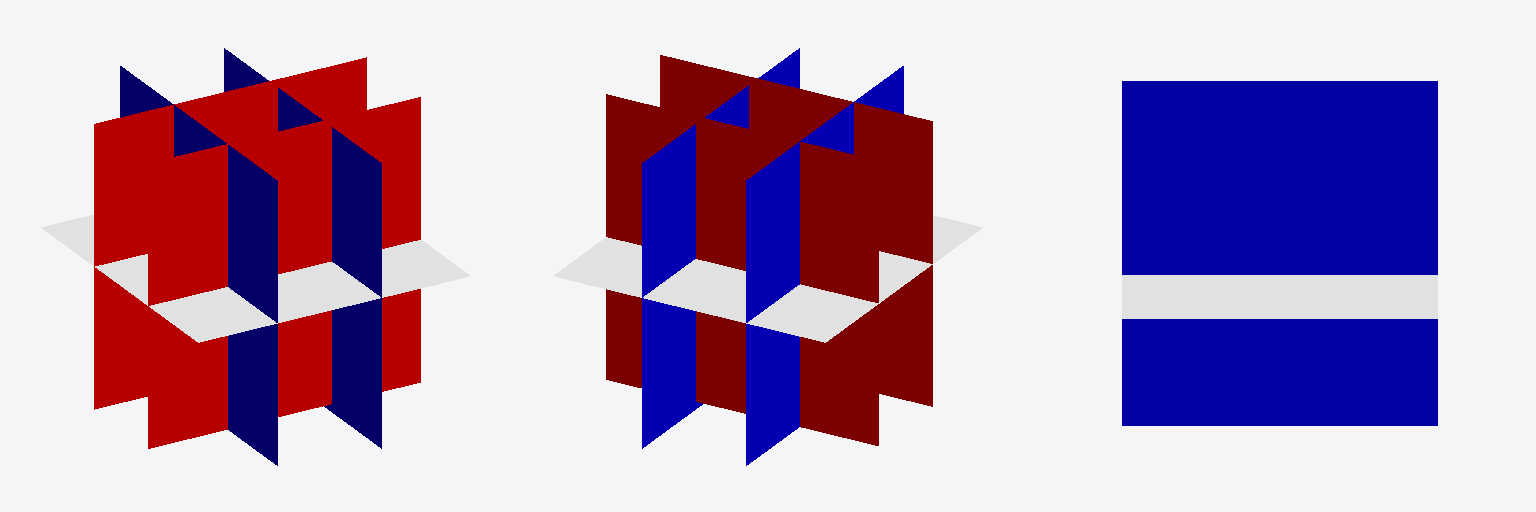
File: jeweled-ring-tone-map-test.obj
The picture shows the model from 3 angles: view 1: azimuth 30°, elevation 25°; view 2: azimuth 150°, elevation 25°; view 3: azimuth 270°, elevation 25°; orthographic projection.
Visible parts, largest first — view 1: Plane_copy, Plane_copy.001, Plane_copy.003, Plane_copy.002, Plane; view 2: Plane_copy.001, Plane_copy, Plane_copy.003, Plane_copy.002, Plane; view 3: Plane_copy.002, Plane_copy.003, Plane.
Boxes of the visible parts, <box> form: Plane_copy: <box>148,97,420,448</box>; Plane_copy.001: <box>94,57,366,409</box>; Plane_copy.003: <box>120,66,277,465</box>; Plane_copy.002: <box>224,48,381,448</box>; Plane: <box>41,215,469,342</box>; Plane_copy.001: <box>606,94,878,445</box>; Plane_copy: <box>660,55,932,406</box>; Plane_copy.003: <box>746,66,903,465</box>; Plane_copy.002: <box>642,48,799,448</box>; Plane: <box>554,215,982,342</box>; Plane_copy.002: <box>1122,140,1437,425</box>; Plane_copy.003: <box>1122,81,1437,139</box>; Plane: <box>1122,275,1437,318</box>.
Bounding box in the file's own units: 400 × 411 × 400.